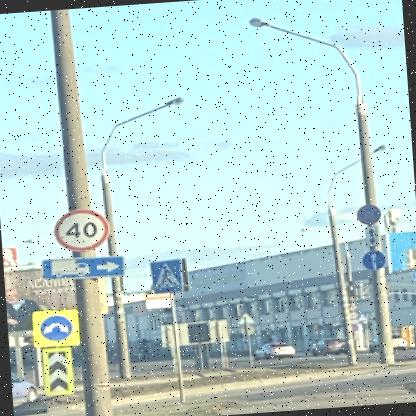crosswalk: (148, 260, 181, 292)
speedlimit: (52, 206, 110, 252)
